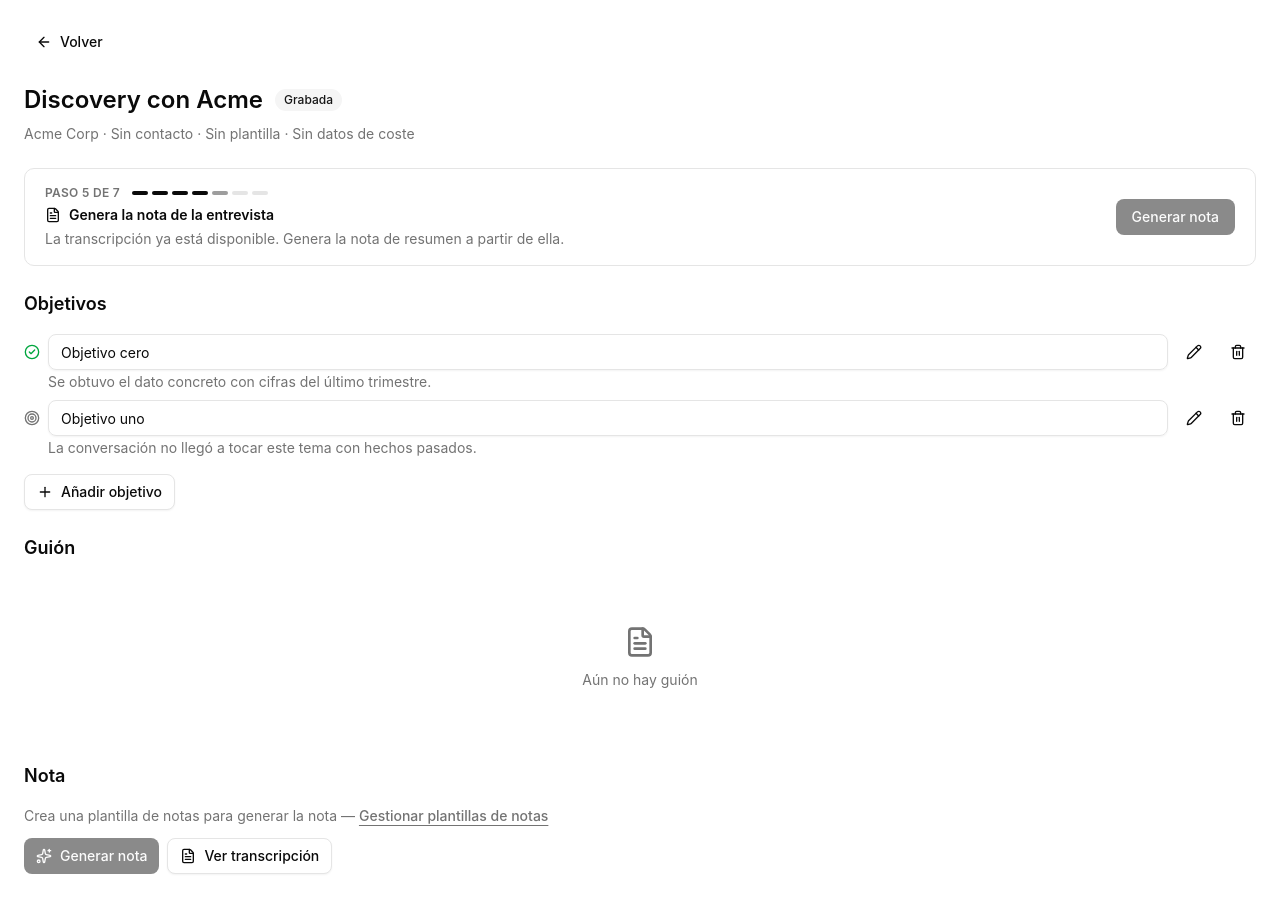
Test: ObjectivesSection › override dialog opening › preselects the opposite state with an empty comment when the objective has no manual mark
The image size is (1280, 899).
Click the button with test id "objective-override-button" at [1194, 418], box [1176,400,1212,436]
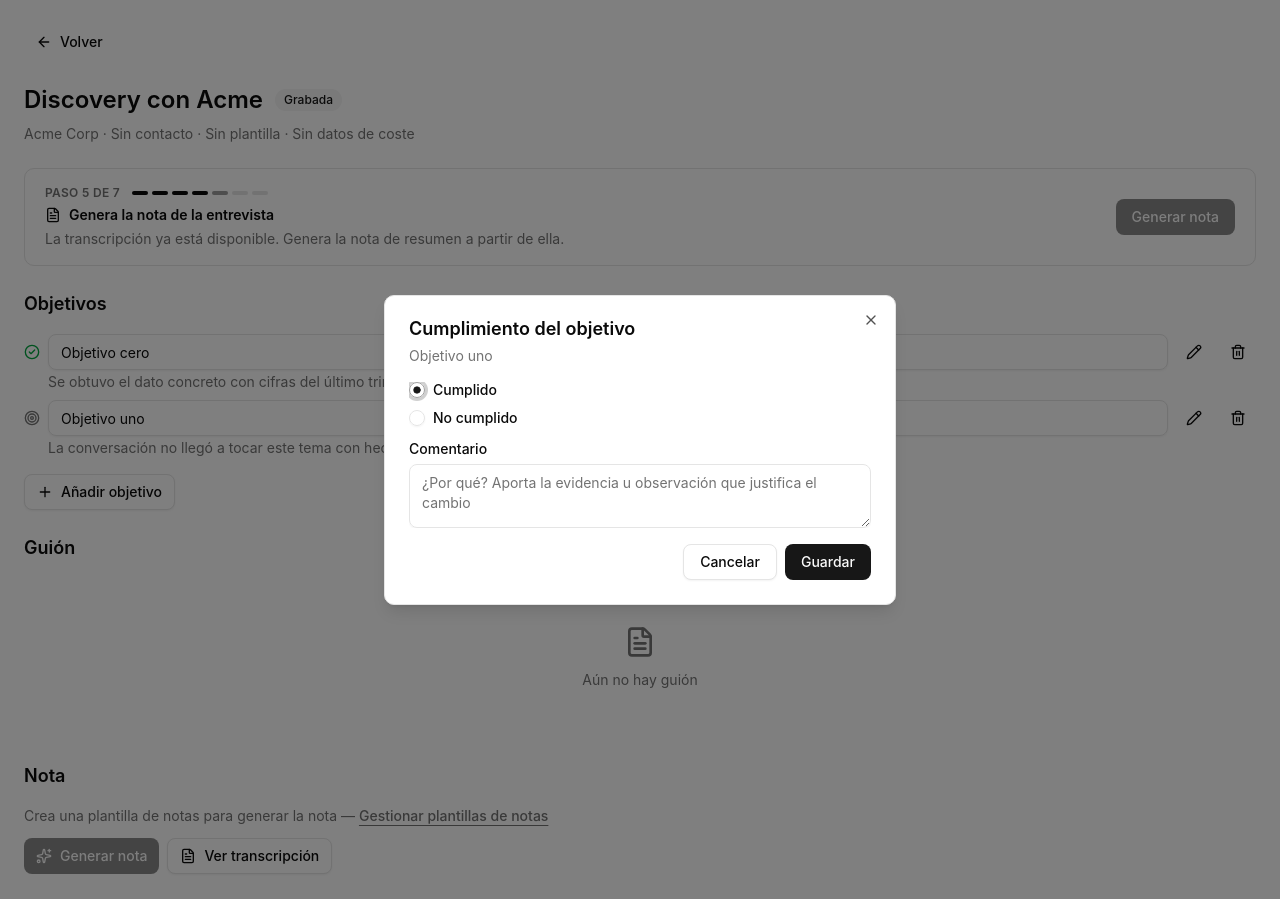
Check: the 2nd radio button named "No cumplido" is not checked, box [409,410,425,426]
Check: the 1st radio button named "Cumplido" is checked, box [409,382,425,398]
Check: the text box with test id "objective-override-comment" is empty, box [409,464,871,528]
Click the button "Cancelar" at [730, 562], box [683,544,777,580]
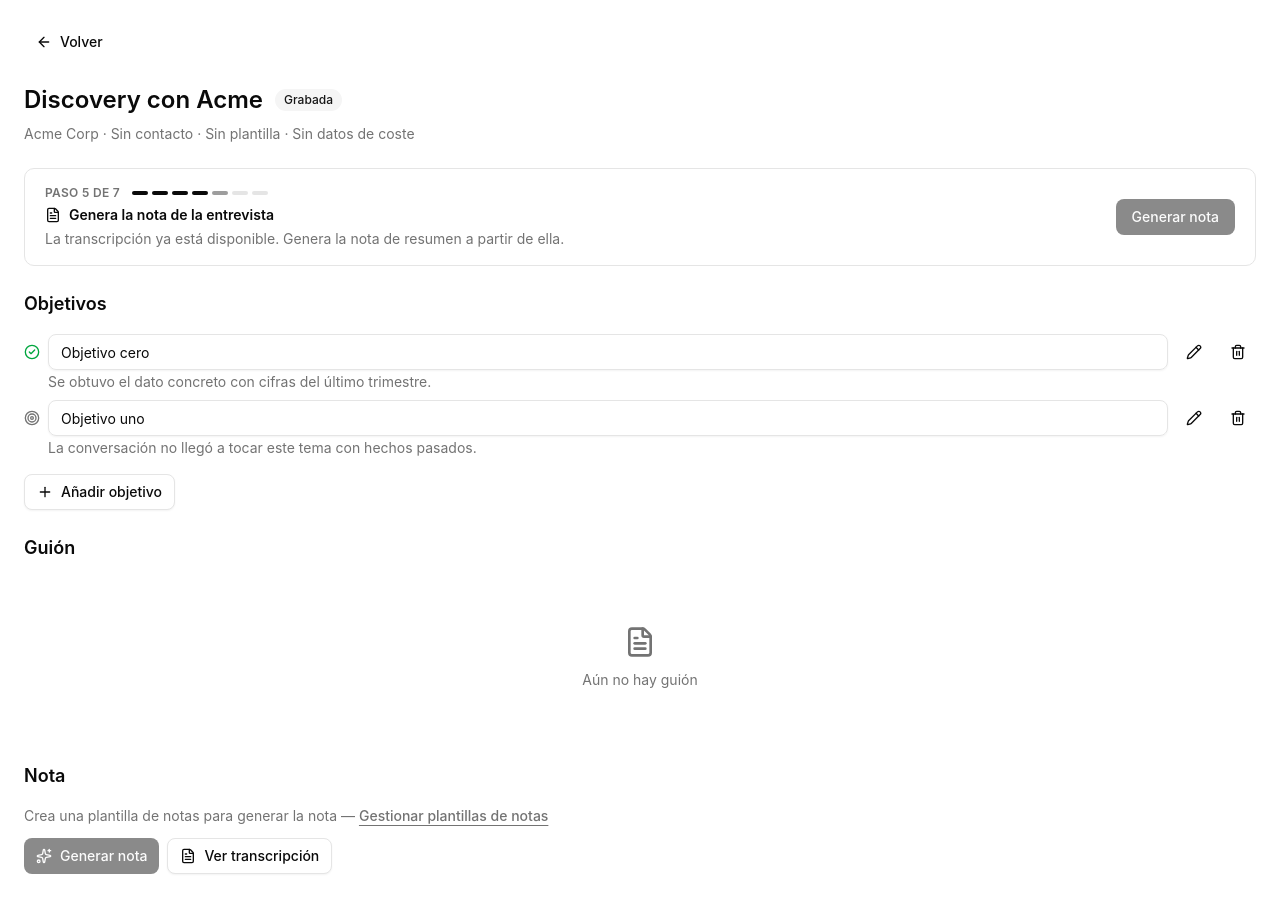
Check: the dialog with test id "objective-override-dialog" is gone
Click the button with test id "objective-override-button" at [1194, 352], box [1176,334,1212,370]
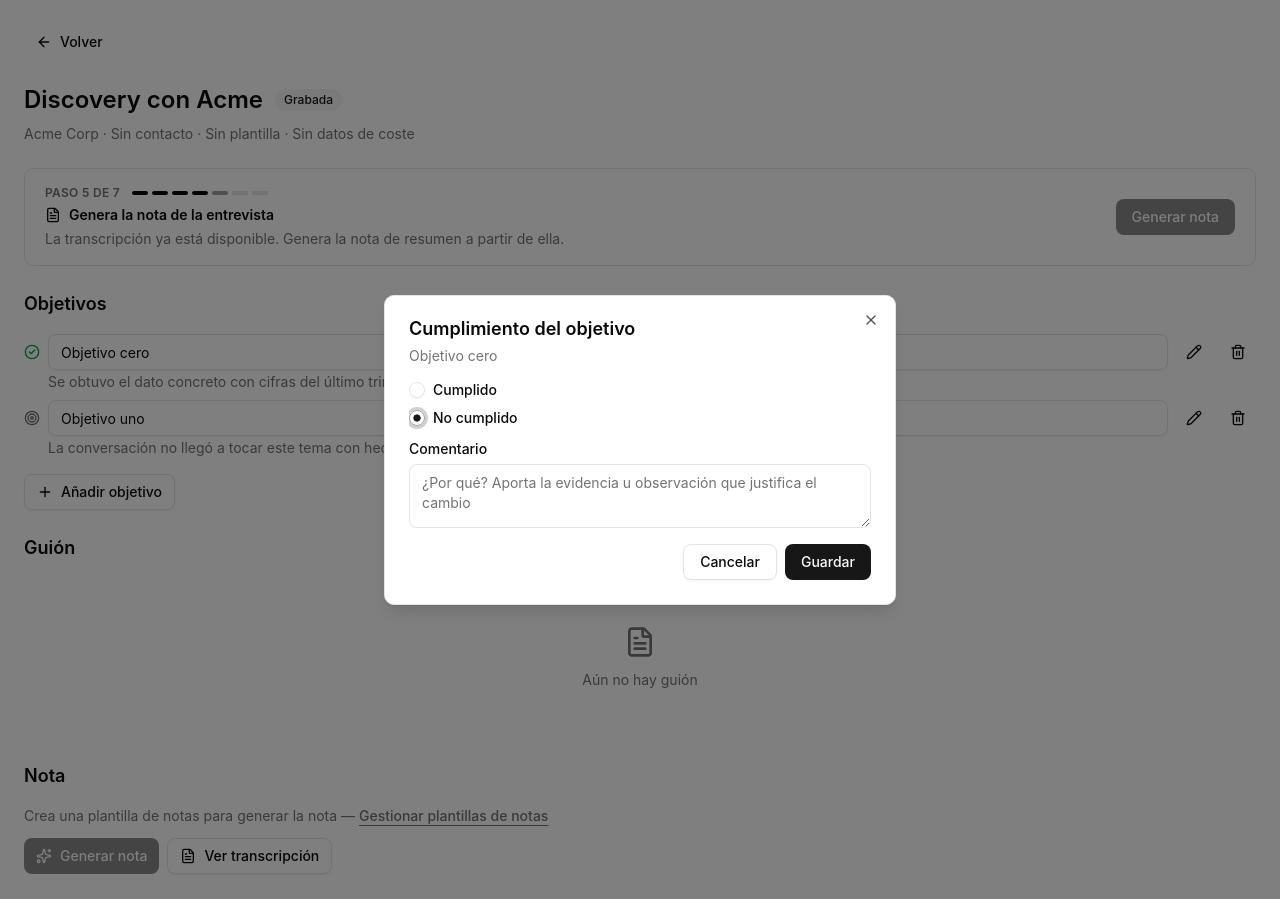
Check: the radio button named "No cumplido" next to "No cumplido" is checked, box [409,410,425,426]
Check: the 1st radio button named "Cumplido" is not checked, box [409,382,425,398]
